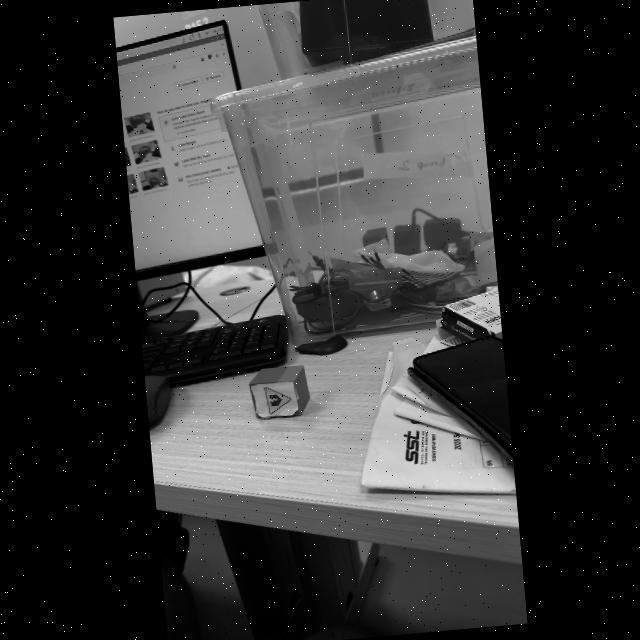Earthquake: (265, 386, 291, 413)
